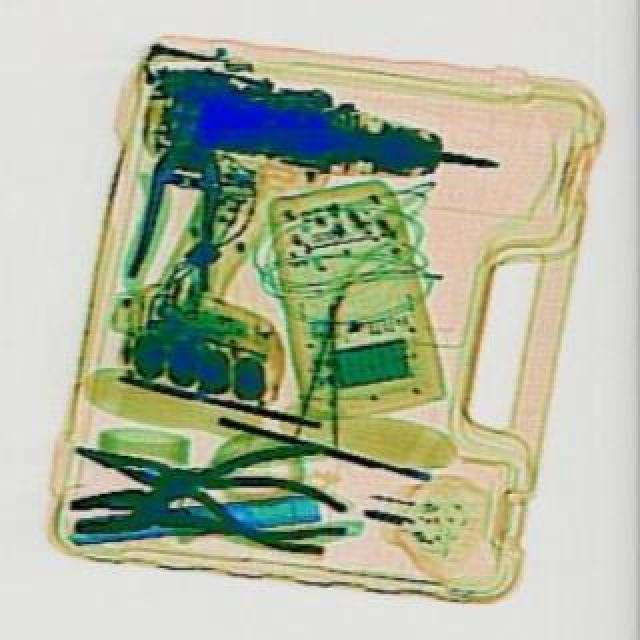wrench: (70, 412, 358, 564), (68, 438, 352, 562), (132, 136, 236, 292)
